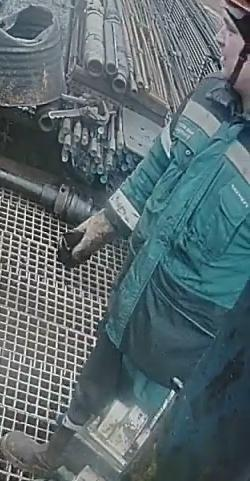gloves: (57, 206, 123, 268)
helmet: (225, 0, 249, 36)
vest: (102, 72, 249, 390)
